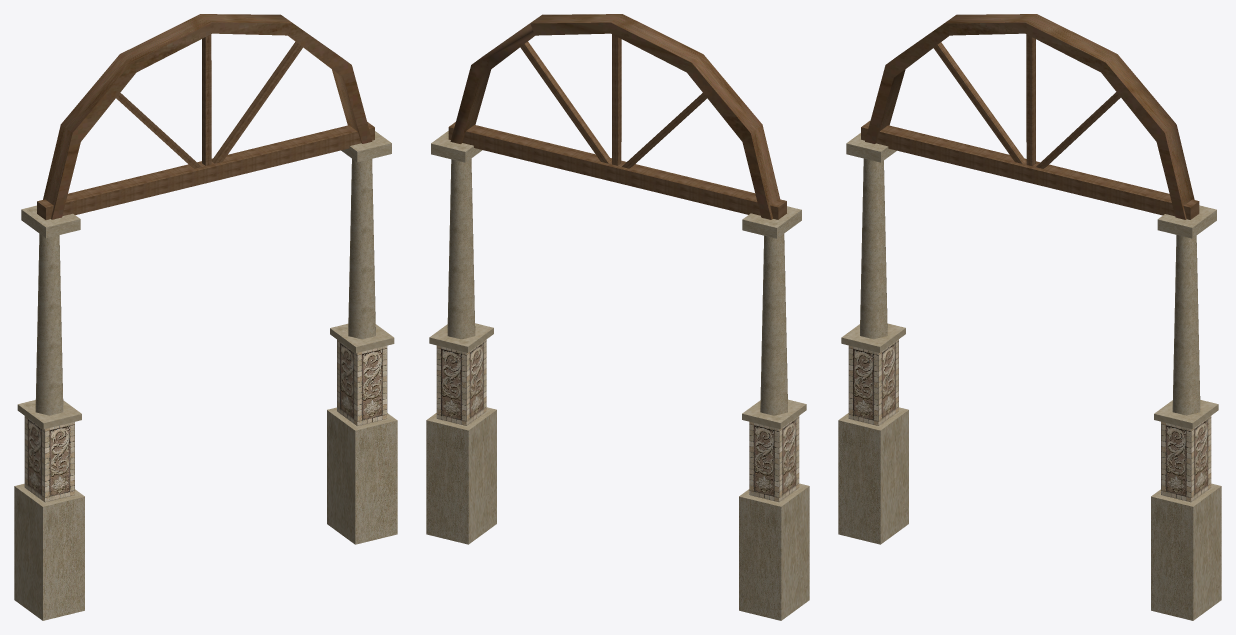
Rendered from thm_nboo_imprv_arbor_pillar_s01_l0.fbx.
3 renders of one model, left to right at view 1: azimuth 30°, elevation 25°; view 2: azimuth 150°, elevation 25°; view 3: azimuth 330°, elevation 25°, orthographic.
Parts seen in each view (by area): view 1: mesh_node; view 2: mesh_node; view 3: mesh_node.
Boxes of the visible parts, x1,y1,x2,y2 form: mesh_node: (14,14,397,620); mesh_node: (426,14,809,620); mesh_node: (838,14,1221,620).
Size of the model in its own units: 3.97 by 5.86 by 0.5511.
Materials: 3 (3 with a texture image).
